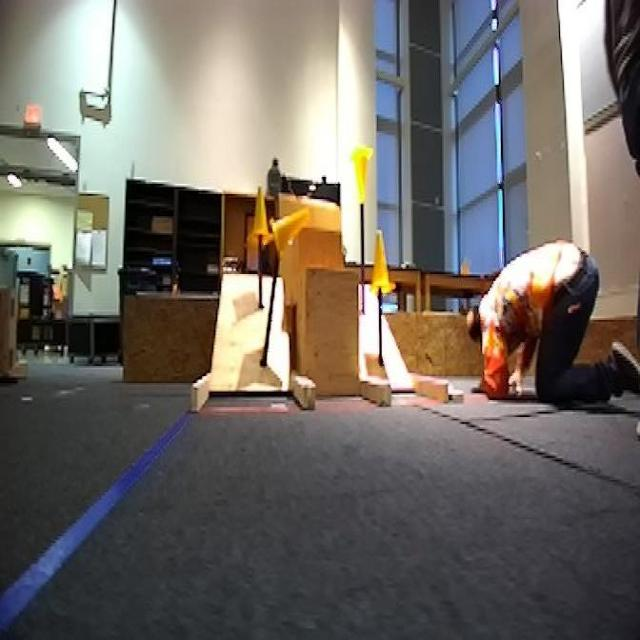frc_cone: (368, 230, 398, 303), (279, 204, 315, 257), (350, 141, 379, 206), (248, 187, 276, 249)
